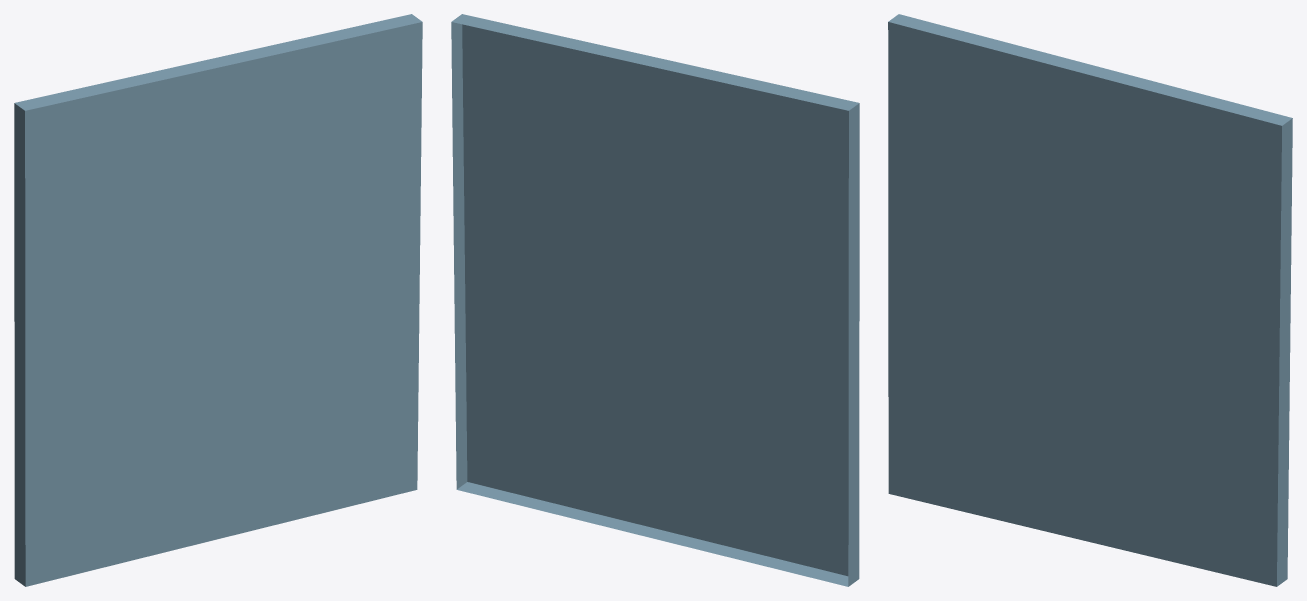
File: Mirror_7.fbx
The picture shows the model from 3 angles, left to right: view 1: azimuth 30°, elevation 25°; view 2: azimuth 150°, elevation 25°; view 3: azimuth 330°, elevation 25°; orthographic projection.
Parts seen in each view (by area): view 1: Mirror_7; view 2: Mirror_7; view 3: Mirror_7.
Part boxes in pixels (x1=…): Mirror_7: x1=14, y1=14, x2=422, y2=586; Mirror_7: x1=451, y1=14, x2=859, y2=586; Mirror_7: x1=888, y1=14, x2=1292, y2=586.
Size of the model in its own units: 151 by 7.1 by 173.
